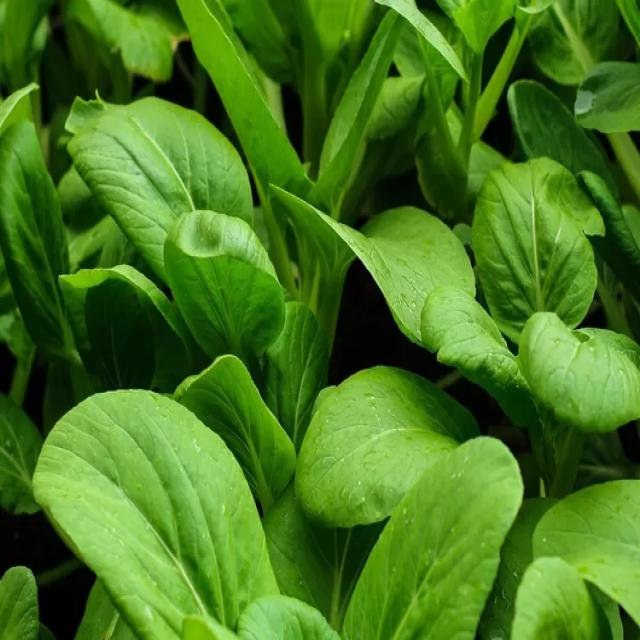pakcoy_sehat: (90, 37, 536, 609)
